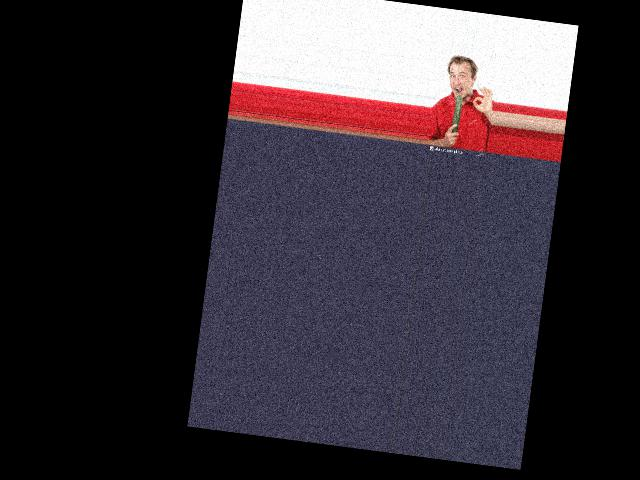cucumber: (452, 94, 462, 133)
